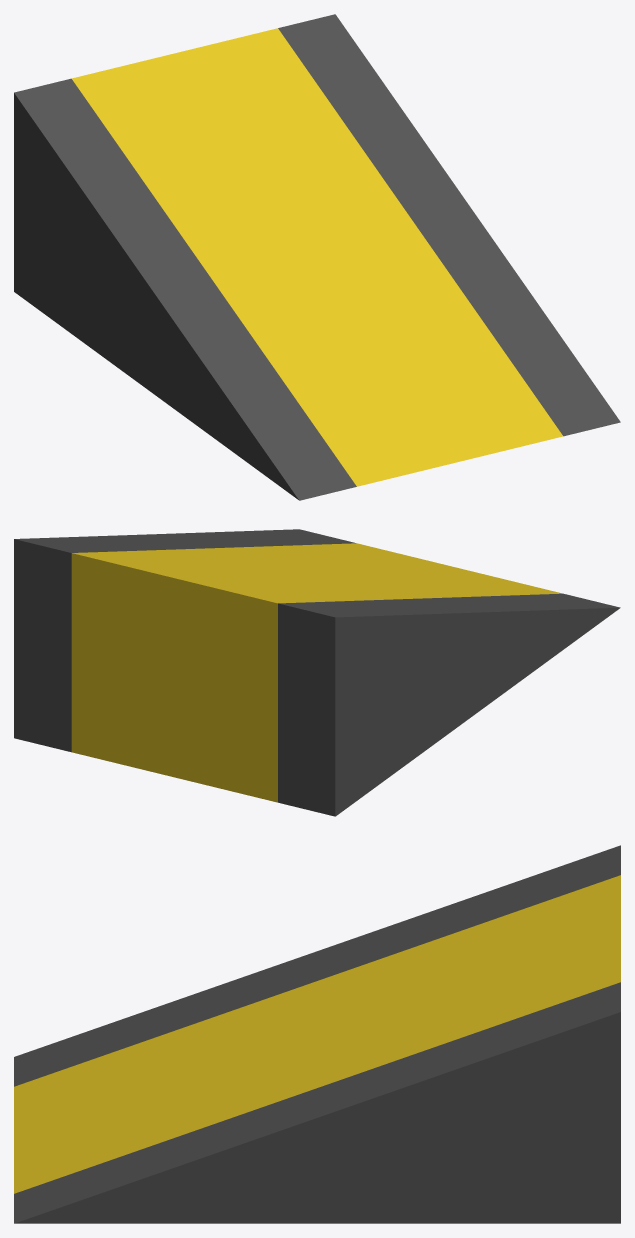
The model's file is loadingBayRamp.fbx.
3 renders of one model, top to bottom at view 1: azimuth 30°, elevation 25°; view 2: azimuth 150°, elevation 25°; view 3: azimuth 270°, elevation 25°, orthographic. The views are drawn at different scales.
Parts seen in each view (by area): view 1: Loading Bay Ramp; view 2: Loading Bay Ramp; view 3: Loading Bay Ramp.
Boxes of the visible parts, x1,y1,x2,y2 form: Loading Bay Ramp: (14, 14, 620, 500); Loading Bay Ramp: (14, 529, 620, 816); Loading Bay Ramp: (14, 845, 620, 1223).
Bounding box in the file's own units: 130 × 200 × 76.99.
